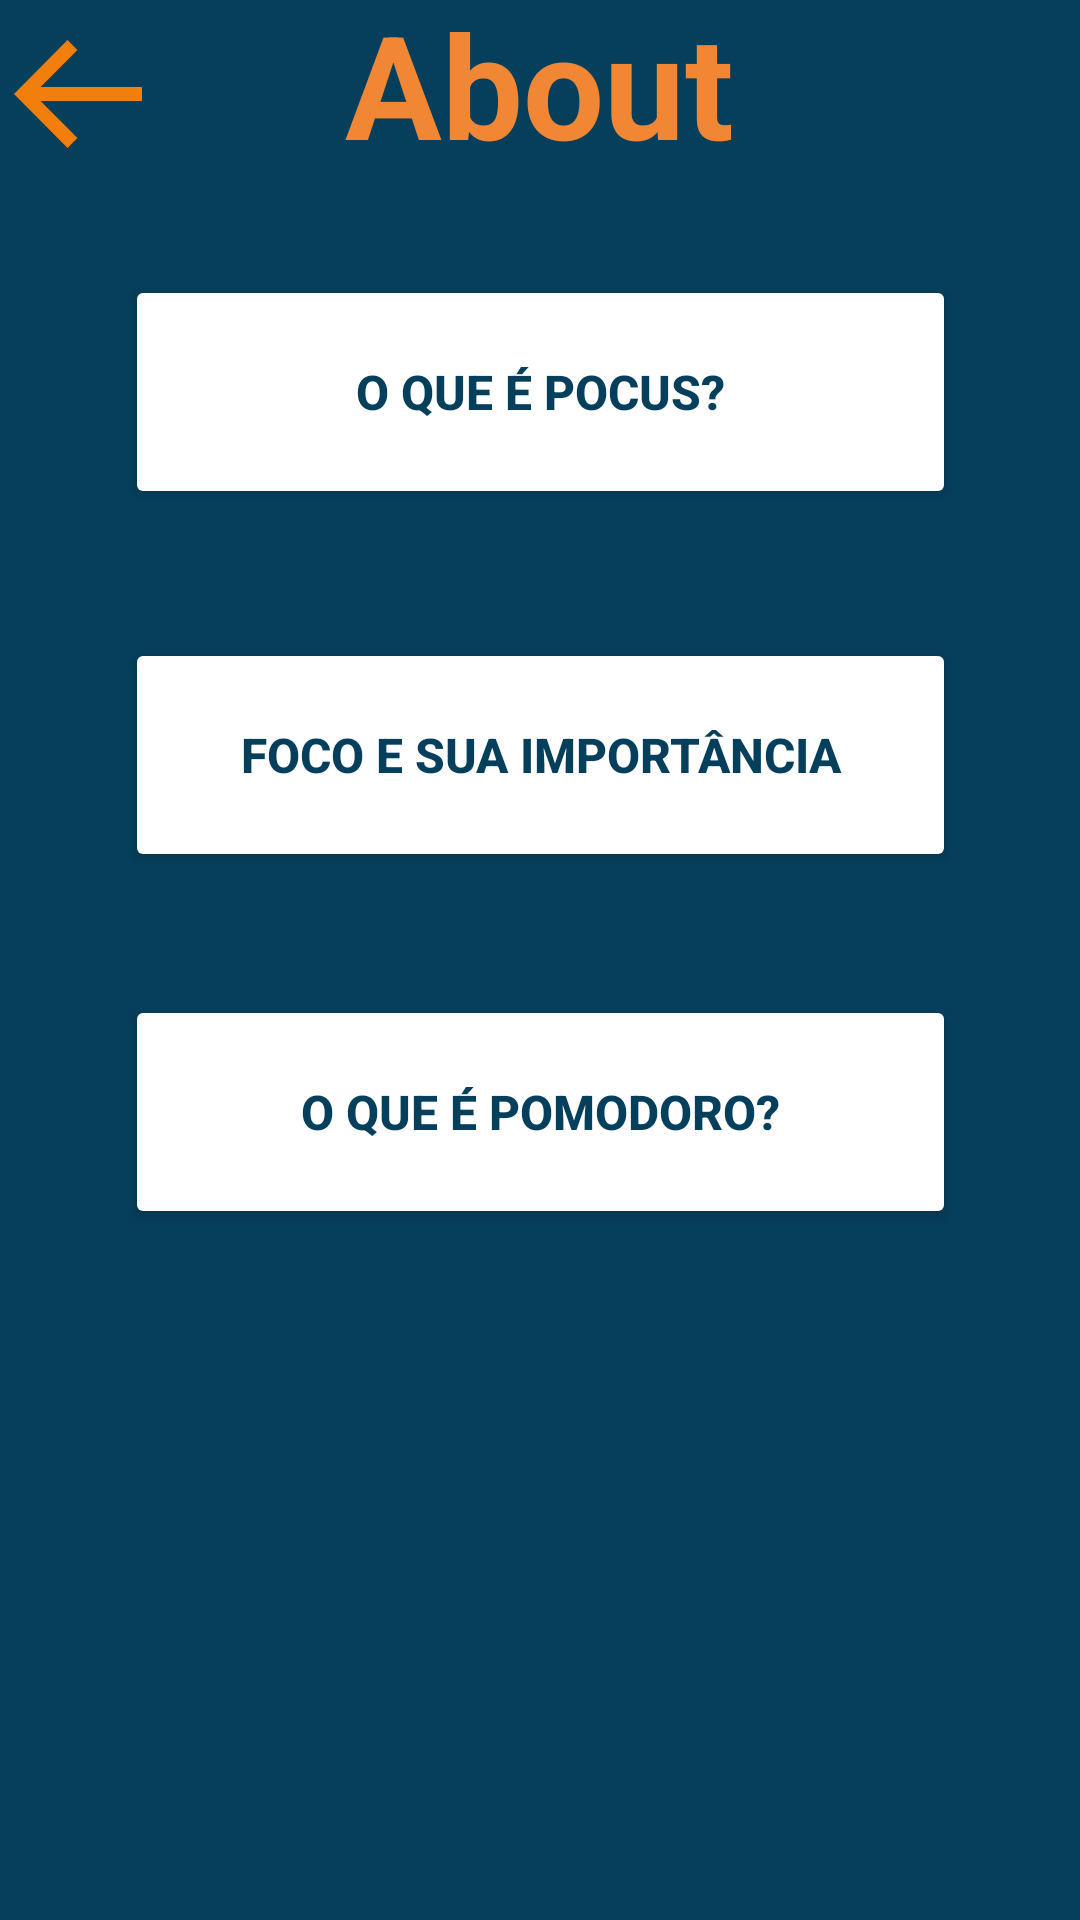

Screen size 1080*1920. Icon name, then its box in pixels as (x1, y1, x2, y2):
back arrow: (14, 40, 142, 148)
